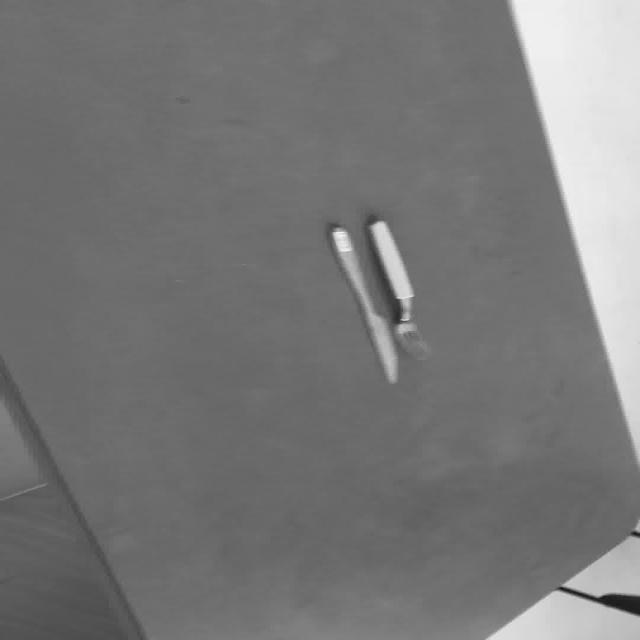fork: (327, 222, 398, 384), (364, 213, 426, 356)
knife fork: (326, 222, 398, 383), (364, 213, 427, 356)
